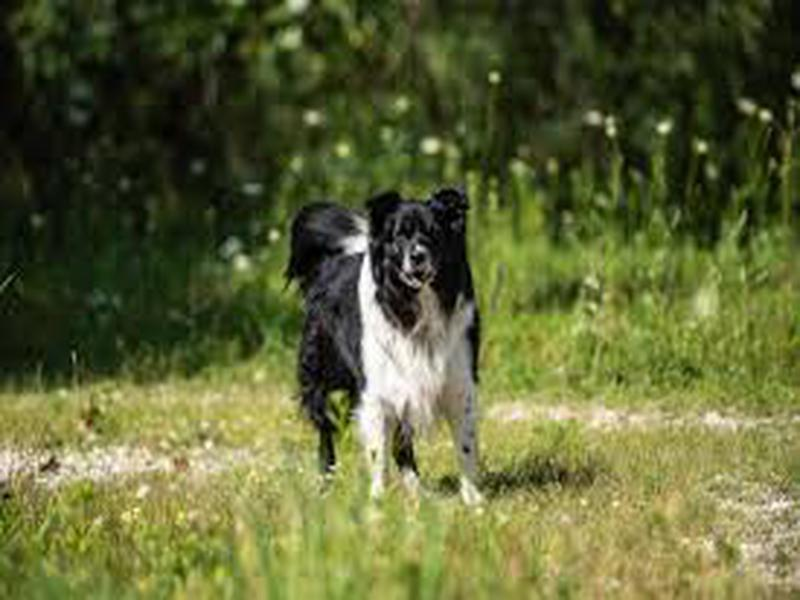dog_stand: (283, 187, 493, 510)
